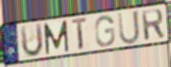G: (94, 14, 116, 48)
M: (43, 19, 70, 56)
R: (141, 7, 166, 42)
T: (71, 16, 89, 52)
U: (19, 22, 45, 59), (117, 9, 142, 46)
